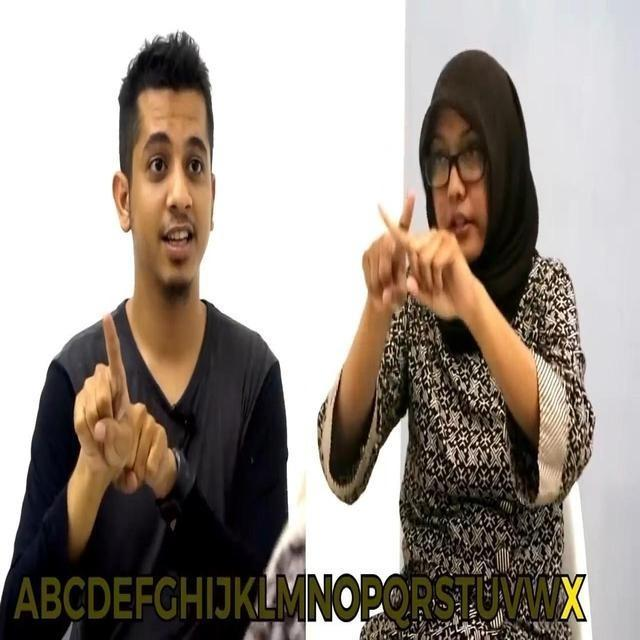X: (346, 185, 471, 324)
